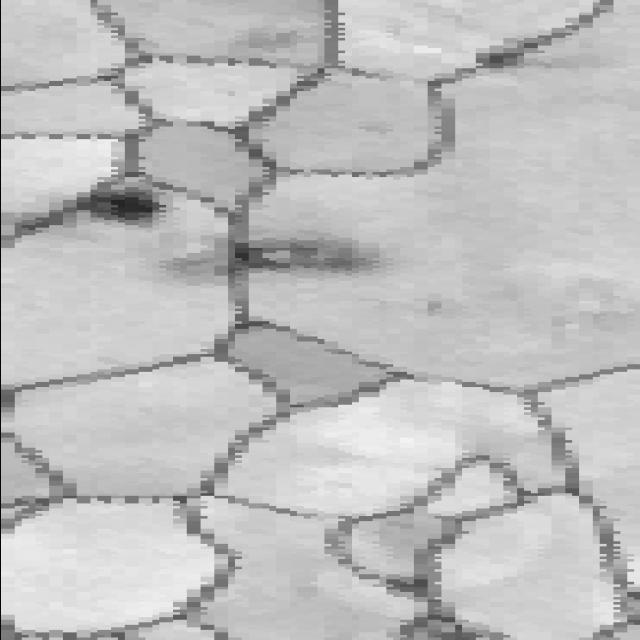good_void: (171, 225, 395, 281), (60, 188, 179, 236), (221, 30, 310, 55), (449, 46, 535, 71), (414, 295, 446, 318)
